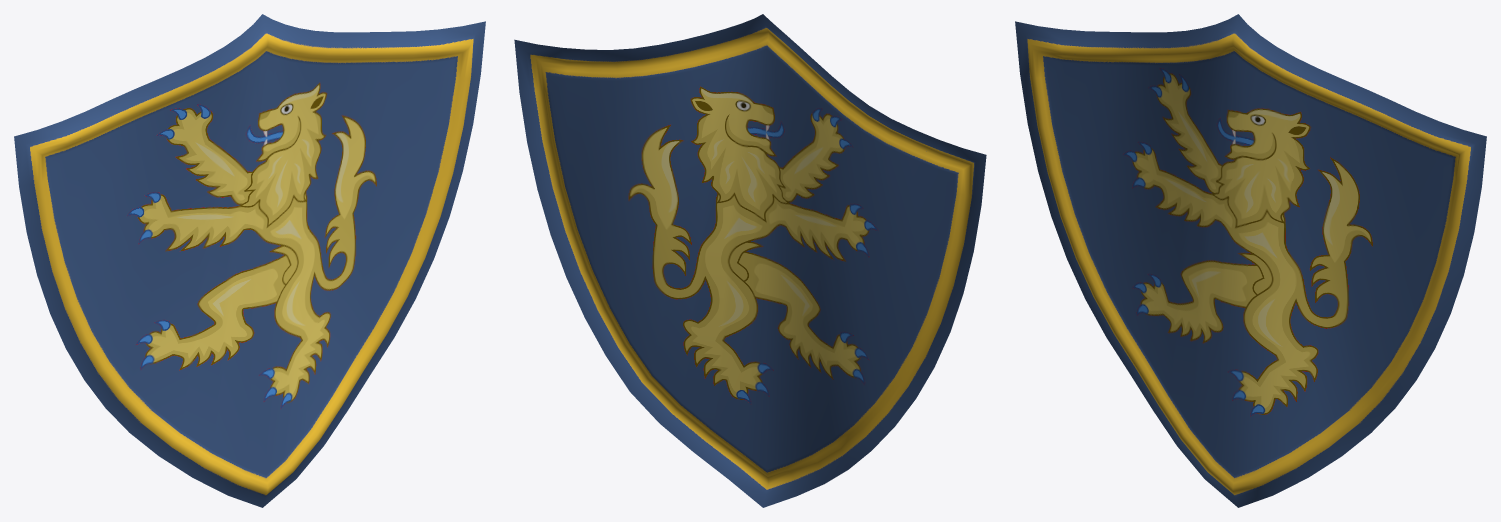
3 renders of one model, left to right at view 1: azimuth 30°, elevation 25°; view 2: azimuth 150°, elevation 25°; view 3: azimuth 330°, elevation 25°, orthographic.
Parts seen in each view (by area): view 1: BézierCurve; view 2: BézierCurve; view 3: BézierCurve.
Part boxes in pixels (x1=…): BézierCurve: x1=14, y1=14, x2=485, y2=507; BézierCurve: x1=514, y1=14, x2=986, y2=507; BézierCurve: x1=1015, y1=14, x2=1486, y2=507.
Bounding box in the file's own units: 2 × 2 × 0.1333.
Materials: 1 (1 with a texture image).
